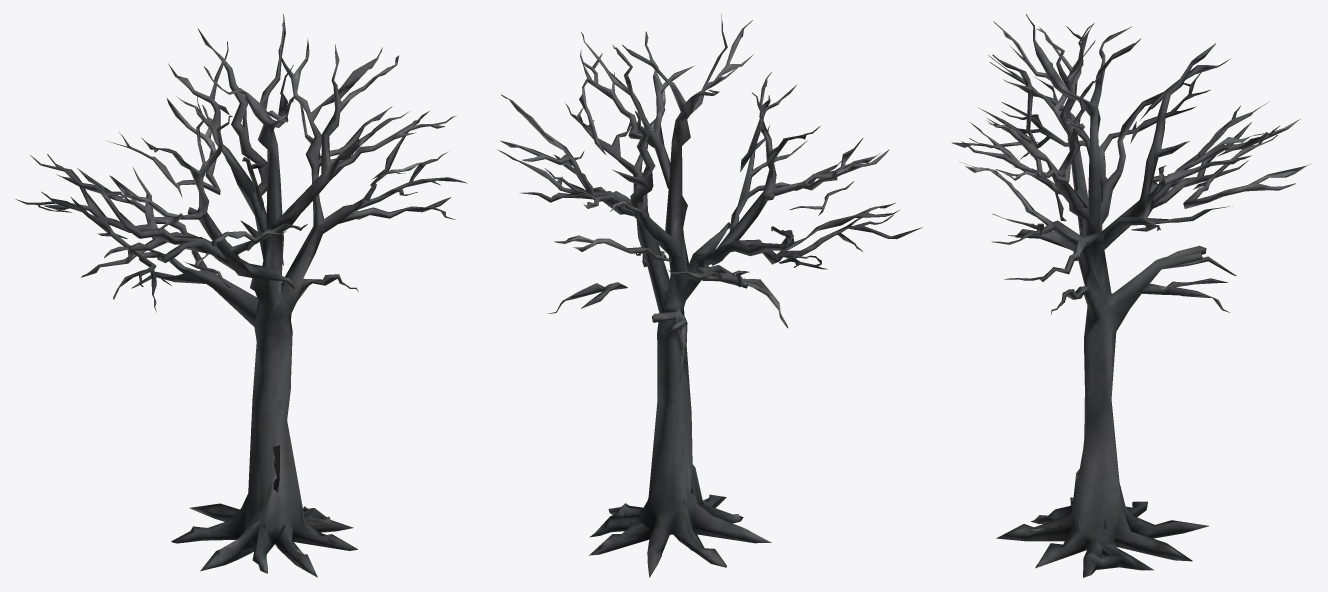
File: prop_deadtree.glb
The picture shows the model from 3 angles, left to right: view 1: azimuth 30°, elevation 25°; view 2: azimuth 150°, elevation 25°; view 3: azimuth 270°, elevation 25°; orthographic projection. The views are drawn at different scales.
Parts seen in each view (by area): view 1: node_0; view 2: node_0; view 3: node_0.
Part boxes in pixels (box(x1,y1,x2,y2)): node_0: box(15, 14, 467, 577); node_0: box(498, 14, 922, 577); node_0: box(951, 14, 1311, 577).
Bounding box in the file's own units: 0.801 × 1.08 × 0.6812.
Materials: 1 (1 with a texture image).
